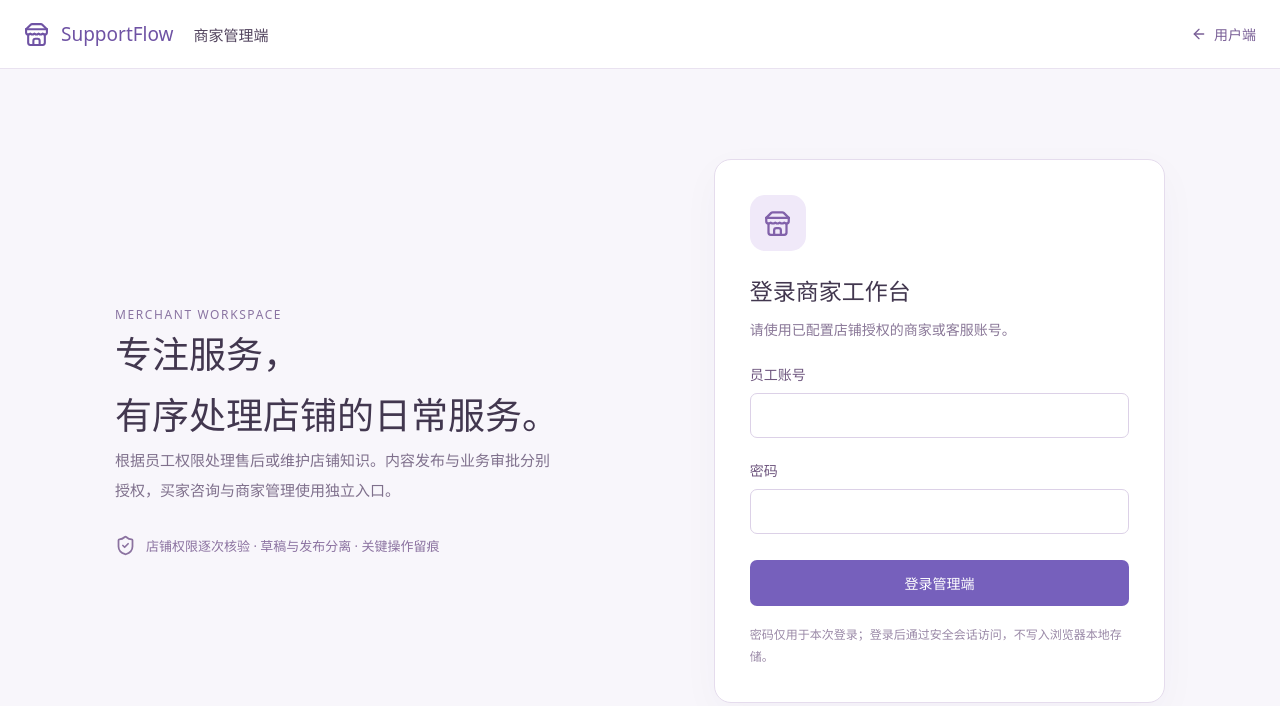
Test: MerchantApp › shows index readiness only to knowledge staff and prepares it only after an explicit click
Type "staff" into the field with test id "merchant-username" at (939, 416), box [750,393,1129,438]
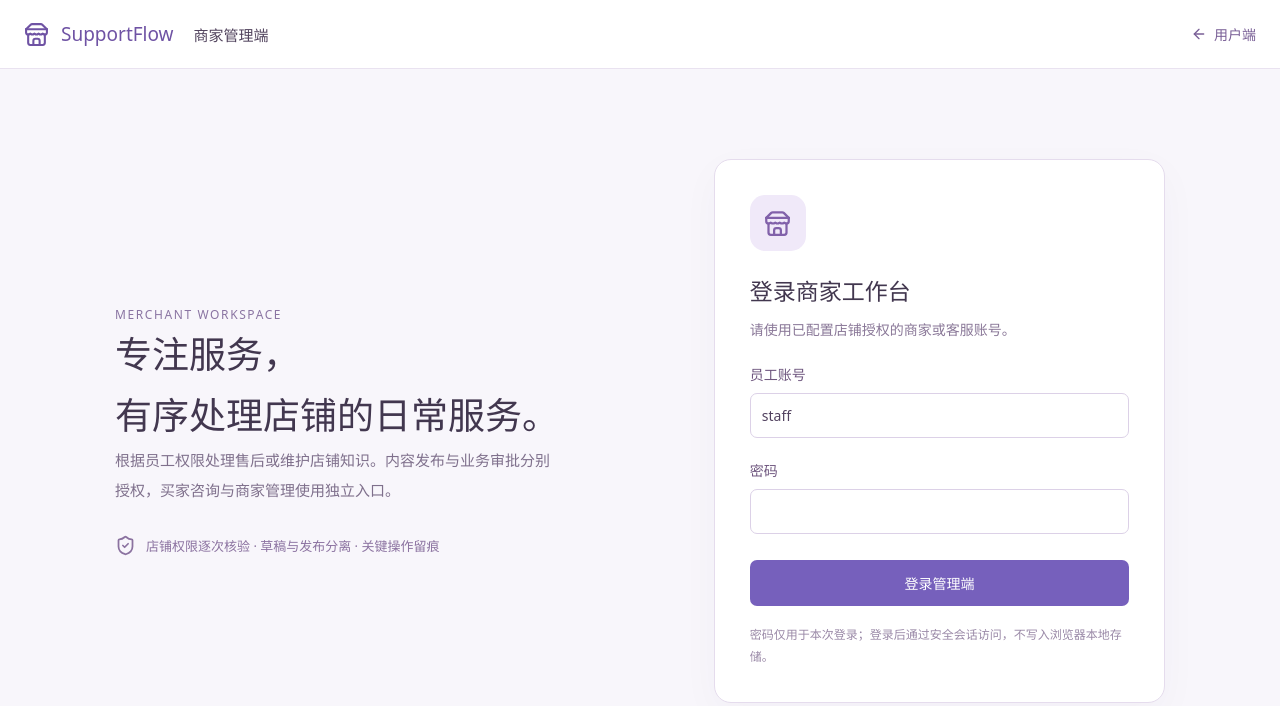
Type "test" into the password field with test id "merchant-password" at (939, 512), box [750,489,1129,534]
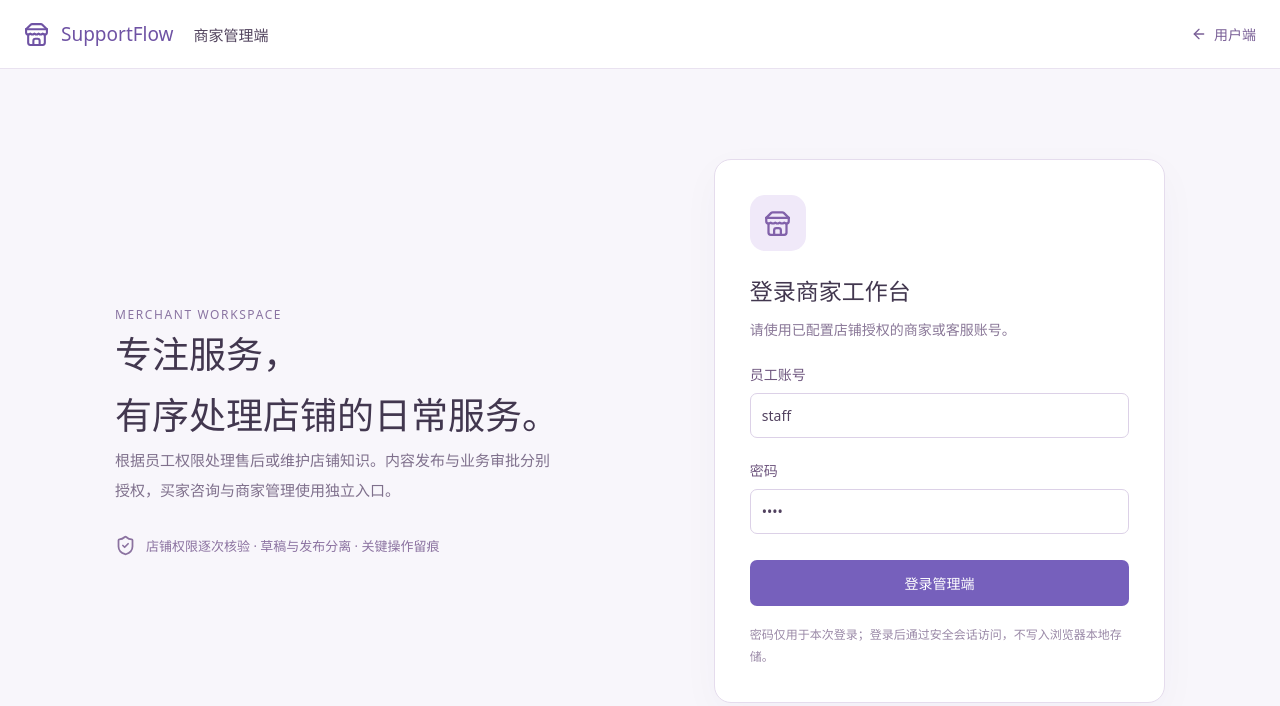
Submit the form with test id "merchant-login", box [714,159,1165,703]
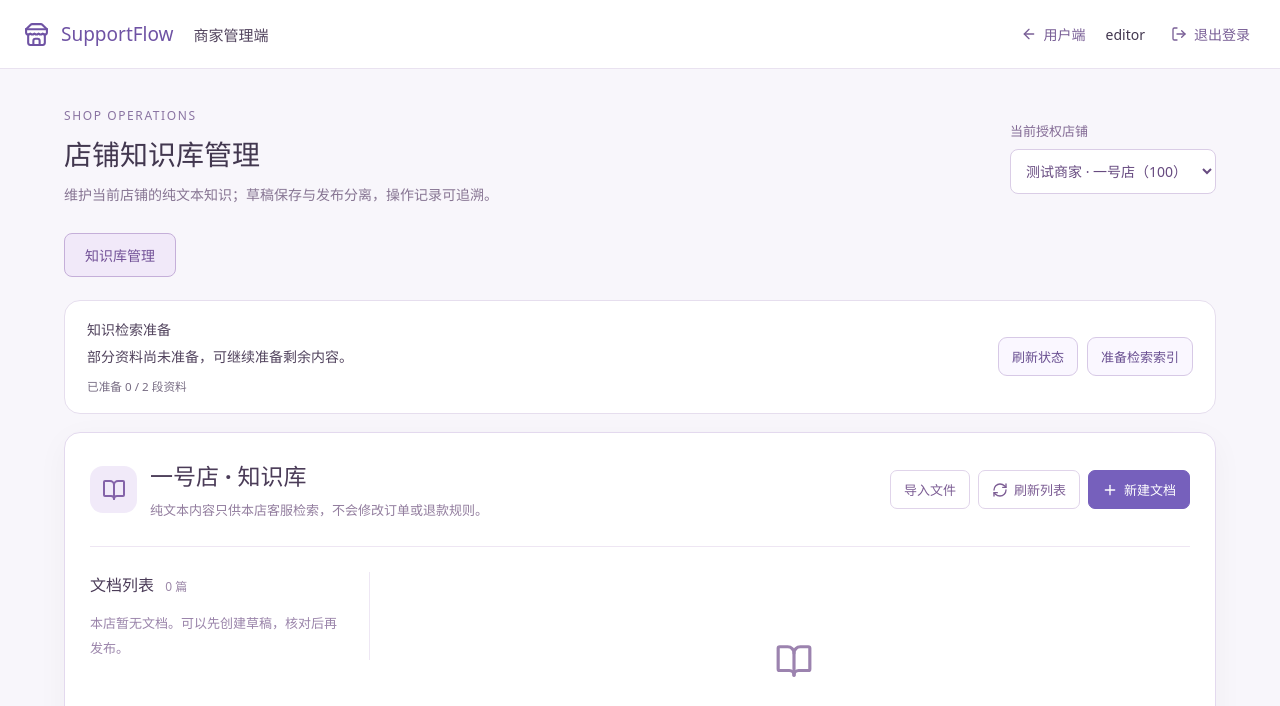
Expected: the element with test id "knowledge-index-panel" shows "0 / 2", [87,379,187,394]
Click the button with test id "knowledge-index-prepare" at (1140, 357), box [1087,337,1193,376]
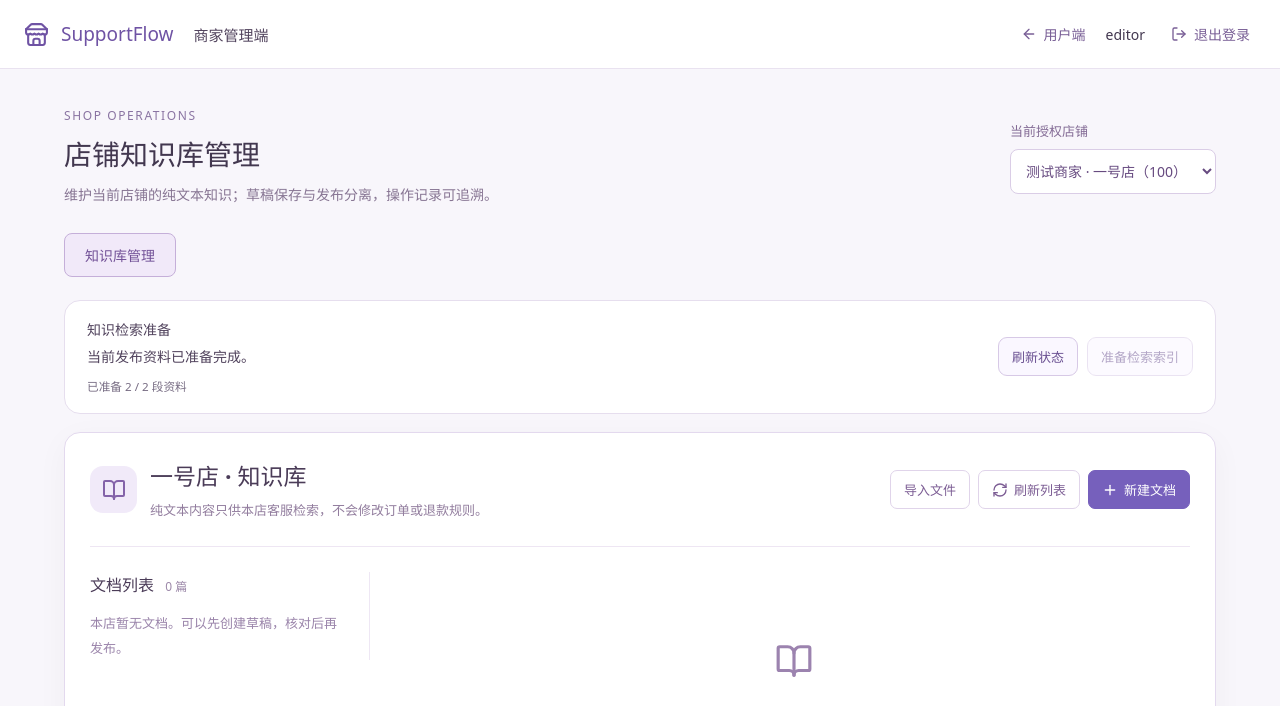
Expected: the element with test id "knowledge-index-panel" shows "已准备完成", [87,347,255,366]
